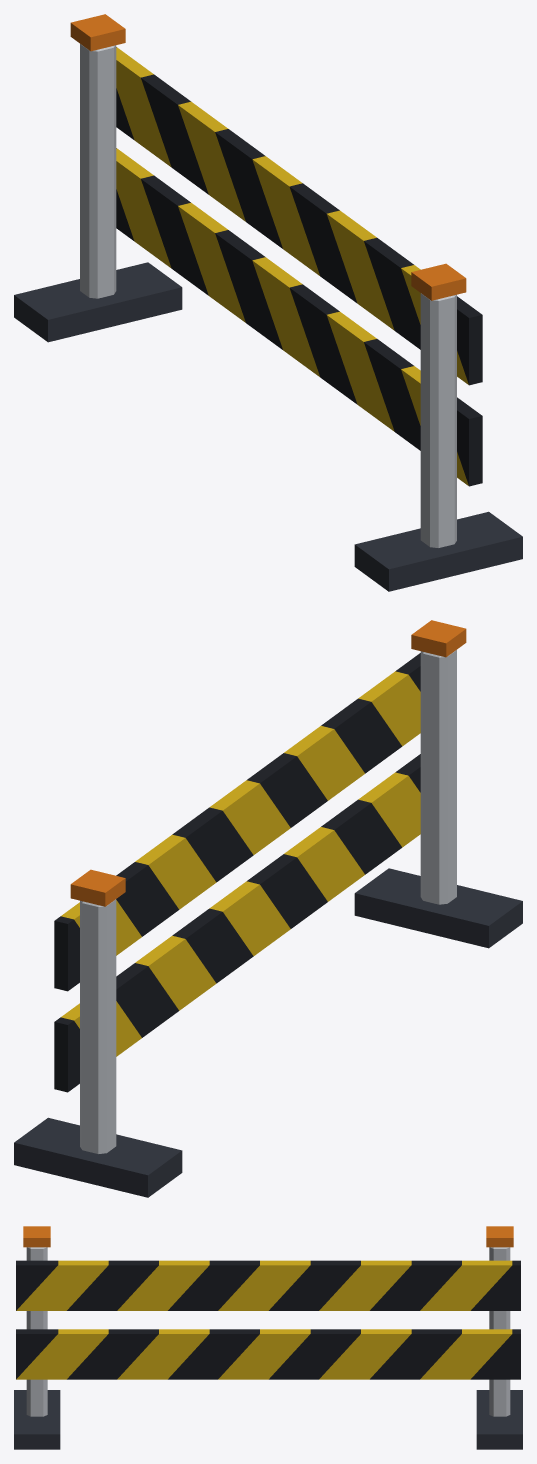
The model's file is fence.glb.
3 views of the same model, one above another, from view 1: azimuth 30°, elevation 25°; view 2: azimuth 150°, elevation 25°; view 3: azimuth 270°, elevation 25° (orthographic). The views are drawn at different scales.
Visible parts, largest first — view 1: Body; view 2: Body; view 3: Body.
Boxes of the visible parts, x1,y1,x2,y2 form: Body: (14,14,522,591); Body: (14,620,522,1197); Body: (14,1226,522,1449).
Bounding box in the file's own units: 0.5 × 1.02 × 2.42.
